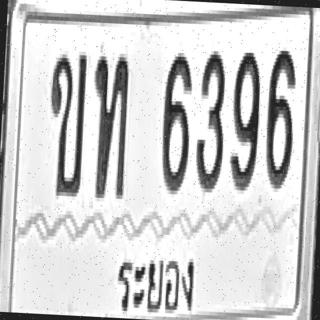A02: (45, 50, 88, 196)
A23: (88, 52, 131, 199)
N03: (193, 47, 228, 193)
N06: (159, 51, 194, 193), (263, 47, 297, 189)
N09: (229, 48, 262, 191)
P53: (106, 237, 210, 320)
